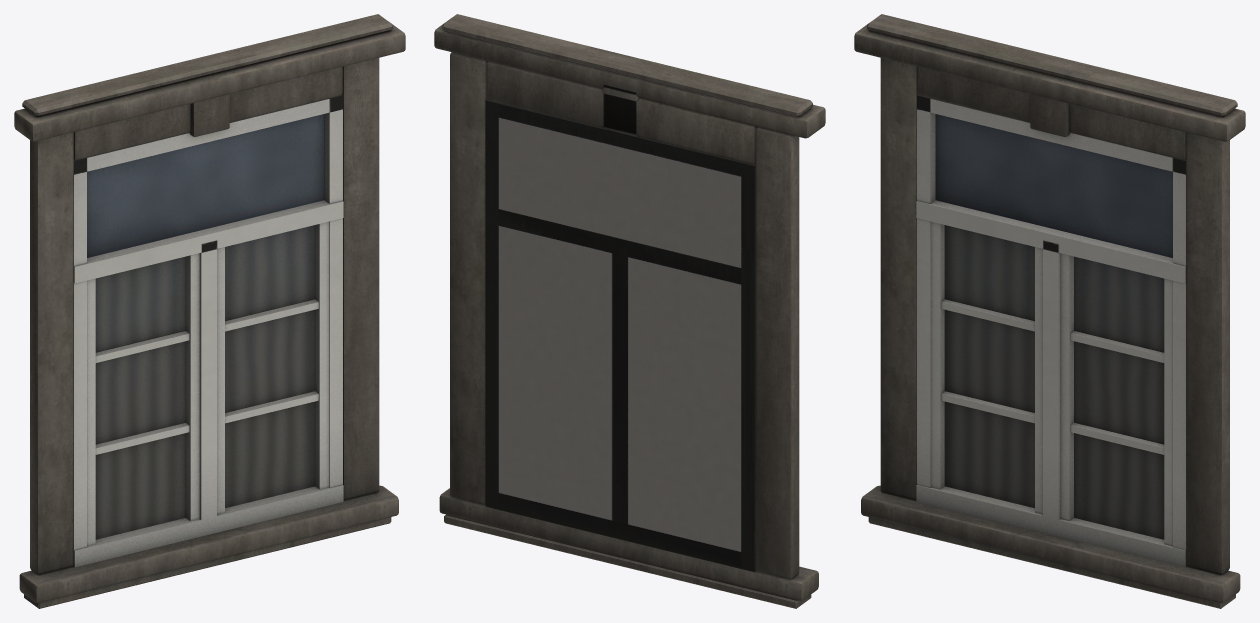
Rendered from win_town_bare.glb.
3 renders of one model, left to right at view 1: azimuth 30°, elevation 25°; view 2: azimuth 150°, elevation 25°; view 3: azimuth 330°, elevation 25°, orthographic.
Visible parts, largest first — view 1: win_town_bare; view 2: win_town_bare; view 3: win_town_bare.
Boxes of the visible parts, x1=… form: win_town_bare: x1=14, y1=14, x2=405, y2=608; win_town_bare: x1=434, y1=14, x2=825, y2=608; win_town_bare: x1=854, y1=14, x2=1245, y2=608.
Bounding box in the file's own units: 1.42 × 1.81 × 0.13.
1 material, 1 textured.
